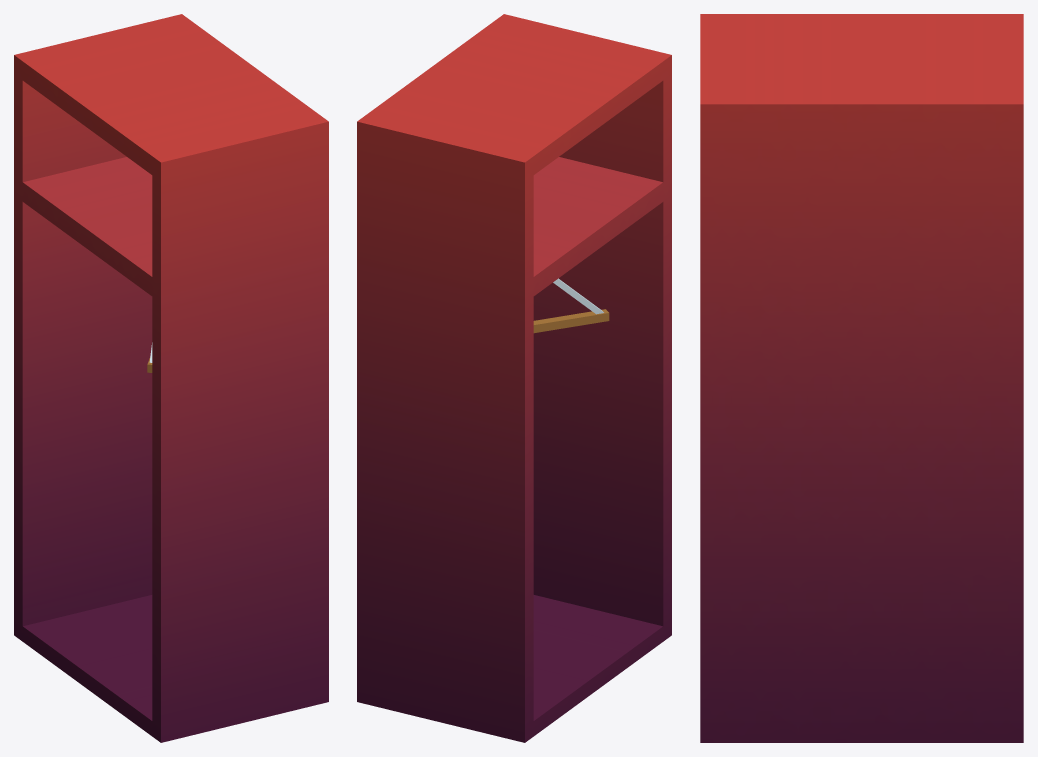
File: Locker.fbx
3 views of the same model, side by side, from view 1: azimuth 30°, elevation 25°; view 2: azimuth 150°, elevation 25°; view 3: azimuth 270°, elevation 25° (orthographic). The views are drawn at different scales.
Visible parts, largest first — view 1: Locker; view 2: Locker; view 3: Locker.
Part boxes in pixels (left/top/right/bottom): Locker: left=14, top=14, right=328, bottom=742; Locker: left=357, top=14, right=671, bottom=742; Locker: left=700, top=14, right=1023, bottom=742.
Size of the model in its own units: 60.57 by 91.84 by 200.
